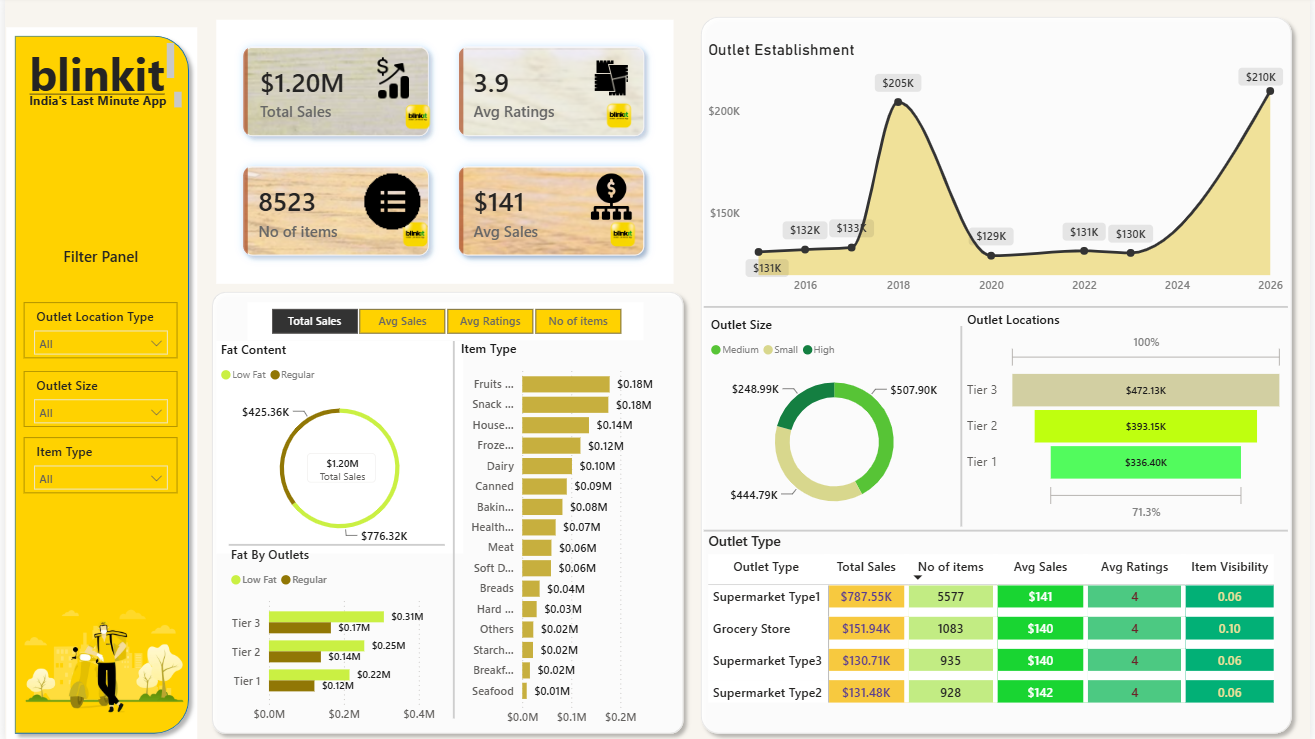

Layout of this report page (visuals, bound fields, positions):
{"tool":"powerbi","page":{"name":"Page 1","canvas":[1400,800],"ordinal":0},"visuals":[{"type":"shape","box":[1.7,33.3,205,766.7],"z":0},{"type":"textbox","box":[21.7,45,165,65],"z":1000},{"type":"textbox","box":[21.7,98.3,173.3,30],"z":2000},{"type":"group","id":"g1","title":"Group 1","box":[226.7,25,490,283.3],"z":3000},{"type":"cardVisual","fields":{"Data":["BlinkIT Grocery Data.Total Sales","BlinkIT Grocery Data.Avg Ratings","BlinkIT Grocery Data.No of items","BlinkIT Grocery Data.Avg Sales"]},"box":[226.7,25,490,283.3],"z":3000,"group":"g1"},{"type":"image","box":[615.4,64.5,69,48],"z":4000},{"type":"image","box":[387.7,65.8,57.9,46.2],"z":6000,"group":"g1"},{"type":"image","box":[624.4,190.6,51,49.5],"z":6000},{"type":"image","box":[426.2,114.1,33,31.5],"z":7000},{"type":"image","box":[423.2,240.1,33,31.5],"z":8000},{"type":"image","box":[642.4,240.1,40.5,31.5],"z":9000},{"type":"image","box":[642.4,112.6,33,31.5],"z":10000},{"type":"shape","box":[213.3,308.3,523.3,491.7],"z":11000},{"type":"donutChart","title":" Fat Content","fields":{"Y":["BlinkIT Grocery Data.Total Sales"],"Category":["BlinkIT Grocery Data.Item Fat Content"]},"box":[226.7,370,265,228.3],"z":12000},{"type":"slicer","fields":{"Values":["Metrics.Metrics"]},"box":[259.6,328.7,424.7,40.5],"z":13000},{"type":"cardVisual","fields":{"Data":["BlinkIT Grocery Data.Total Sales"]},"box":[306.7,473.3,108.3,66.7],"z":14000},{"type":"clusteredBarChart","title":"Fat By Outlets","fields":{"Y":["BlinkIT Grocery Data.Total Sales"],"Category":["BlinkIT Grocery Data.Outlet Location Type"],"Series":["BlinkIT Grocery Data.Item Fat Content"]},"box":[236.7,590,235,198.3],"z":15000},{"type":"shape","box":[240,578.3,231.7,21.7],"z":16000},{"type":"shape","box":[463.3,370,35,405],"z":17000},{"type":"barChart","title":"Item Type","fields":{"Y":["BlinkIT Grocery Data.Total Sales"],"Category":["BlinkIT Grocery Data.Item Type"]},"box":[483.3,368.3,233.3,423.3],"z":18000},{"type":"shape","box":[736.7,13.3,651.7,786.7],"z":19000},{"type":"lineChart","title":"Outlet Establishment  ","fields":{"Y":["BlinkIT Grocery Data.Total Sales"],"Category":["BlinkIT Grocery Data.Outlet Establishment Year"]},"box":[750,46.7,626.7,281.7],"z":20000},{"type":"shape","box":[750,568.3,626.7,10],"z":21000},{"type":"donutChart","title":"Outlet Size","fields":{"Y":["BlinkIT Grocery Data.Total Sales"],"Category":["BlinkIT Grocery Data.Outlet Size"]},"box":[751.7,343.3,275,225],"z":22000},{"type":"shape","box":[1008.3,353.3,35,215],"z":23000},{"type":"funnel","title":"Outlet Locations","fields":{"Y":["BlinkIT Grocery Data.Total Sales"],"Category":["BlinkIT Grocery Data.Outlet Location Type"]},"box":[1026.7,338.3,350,230],"z":24000},{"type":"shape","box":[750,328.3,626.7,10],"z":25000},{"type":"pivotTable","title":"Outlet Type","fields":{"Rows":["BlinkIT Grocery Data.Outlet Type"],"Values":["BlinkIT Grocery Data.Total Sales","BlinkIT Grocery Data.No of items","BlinkIT Grocery Data.Avg Sales","BlinkIT Grocery Data.Avg Ratings","Avg(BlinkIT Grocery Data.Item Visibility)"]},"box":[750,573.3,626.7,208.3],"z":26000},{"type":"slicer","fields":{"Values":["BlinkIT Grocery Data.Outlet Location Type"]},"box":[20,328.3,165,60],"z":27000},{"type":"slicer","fields":{"Values":["BlinkIT Grocery Data.Outlet Size"]},"box":[20,401.7,165,60],"z":28000},{"type":"slicer","fields":{"Values":["BlinkIT Grocery Data.Item Type"]},"box":[20,473.3,165,60],"z":29000},{"type":"textbox","box":[20,263.3,165,45],"z":30000},{"type":"image","box":[265,190,300,60],"z":31000},{"type":"image","box":[20,646.7,175,135],"z":32001}]}

Visuals, with their boxes in screenshot pixels (x1, y1, x2, y2), scaled from the page's 1400x800 canvas onto the 1315x739 screenshot:
shape: [2,31,194,738]
textbox: [20,42,175,102]
textbox: [20,91,183,119]
"Group 1" group: [213,23,673,285]
cardVisual - BlinkIT Grocery Data.Total Sales x BlinkIT Grocery Data.Avg Ratings: [213,23,673,285]
image: [578,60,643,104]
image: [364,61,419,103]
image: [586,176,634,222]
image: [400,105,431,134]
image: [398,222,429,251]
image: [603,222,641,251]
image: [603,104,634,133]
shape: [200,285,692,738]
" Fat Content" donutChart: [213,342,462,553]
slicer - Metrics.Metrics: [244,304,643,341]
cardVisual - BlinkIT Grocery Data.Total Sales: [288,437,390,499]
"Fat By Outlets" clusteredBarChart: [222,545,443,728]
shape: [225,534,443,554]
shape: [435,342,468,716]
"Item Type" barChart: [454,340,673,731]
shape: [692,12,1304,738]
"Outlet Establishment  " lineChart: [704,43,1293,303]
shape: [704,525,1293,534]
"Outlet Size" donutChart: [706,317,964,525]
shape: [947,326,980,525]
"Outlet Locations" funnel: [964,313,1293,525]
shape: [704,303,1293,313]
"Outlet Type" pivotTable: [704,530,1293,722]
slicer - BlinkIT Grocery Data.Outlet Location Type: [19,303,174,359]
slicer - BlinkIT Grocery Data.Outlet Size: [19,371,174,426]
slicer - BlinkIT Grocery Data.Item Type: [19,437,174,493]
textbox: [19,243,174,285]
image: [249,176,531,231]
image: [19,597,183,722]
